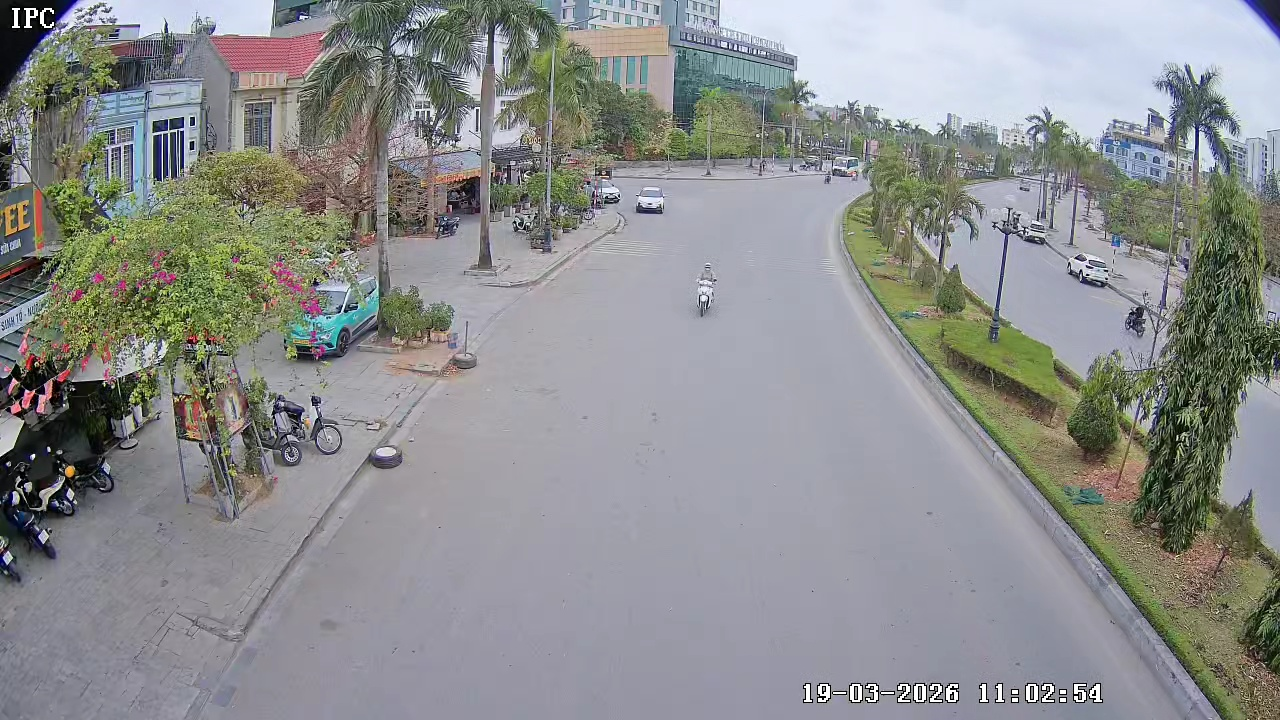bike: (268, 379, 345, 459), (259, 389, 303, 465)
car: (634, 186, 666, 215)
motorbike: (693, 259, 719, 318), (0, 526, 24, 586)
